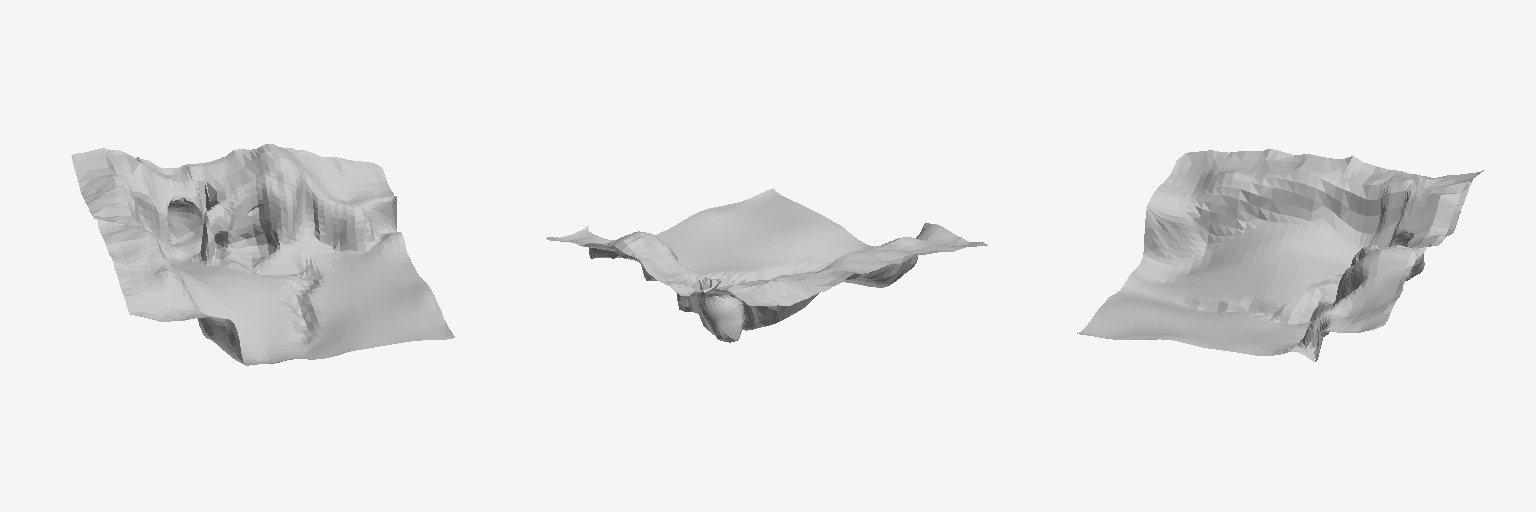
The model's file is Terrain.obj.
The picture shows the model from 3 angles: view 1: azimuth 30°, elevation 25°; view 2: azimuth 150°, elevation 25°; view 3: azimuth 270°, elevation 25°; orthographic projection.
Visible parts, largest first — view 1: Level:polySurface2; view 2: Level:polySurface2; view 3: Level:polySurface2.
Boxes of the visible parts, box(x1,y1,x2,y2) form: Level:polySurface2: box(71, 144, 454, 365); Level:polySurface2: box(546, 188, 987, 342); Level:polySurface2: box(1077, 149, 1483, 361).
Size of the model in its own units: 152 by 42.69 by 156.